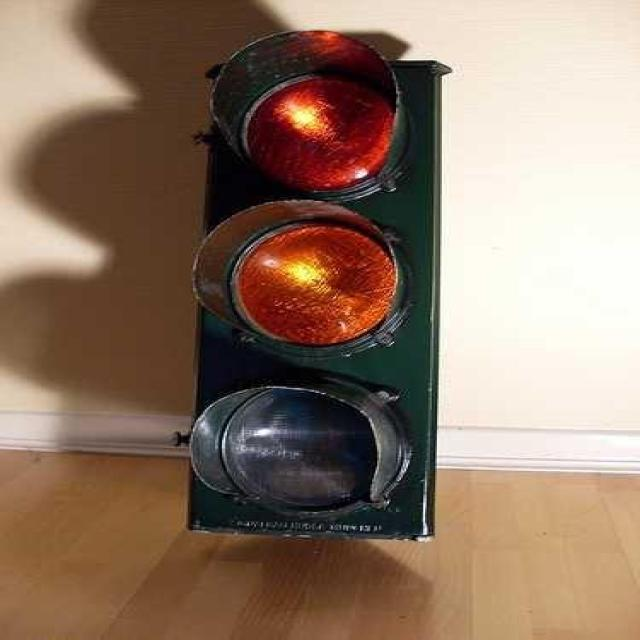Traffic Light -Off-: (188, 27, 444, 541)
